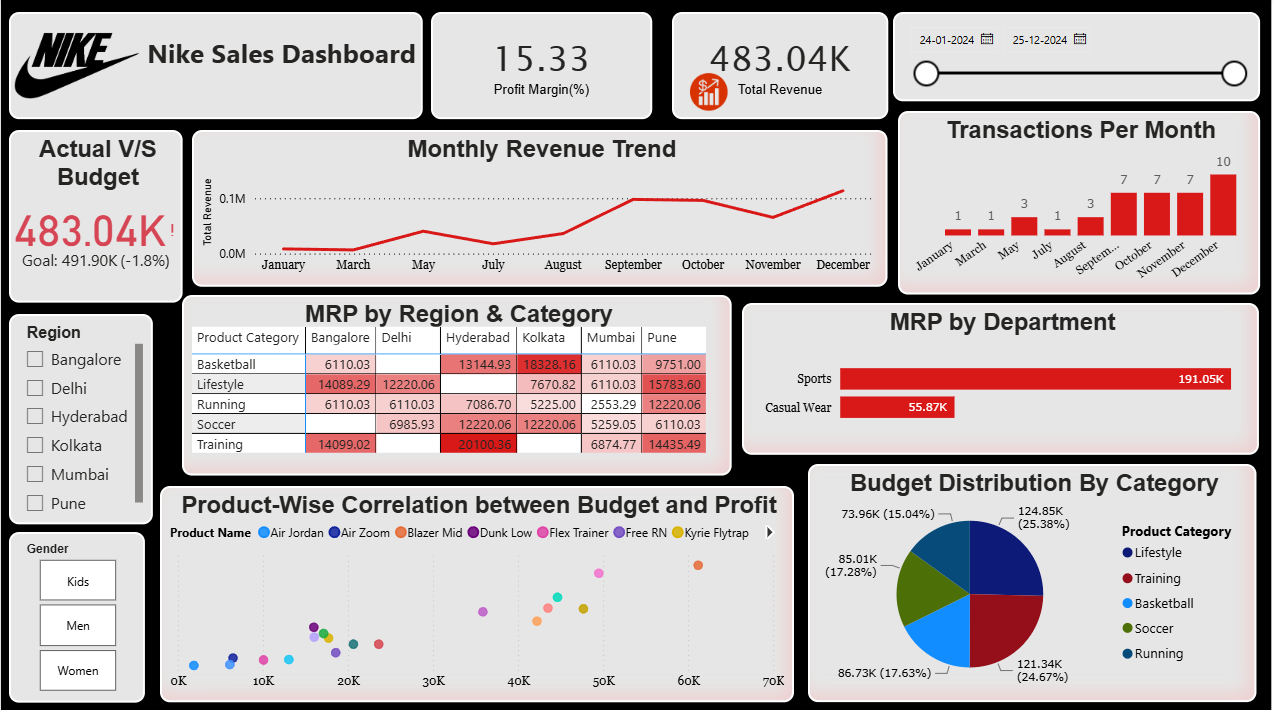

The dashboard page shown, as its layout file describes it:
{"tool":"powerbi","page":{"name":"Overview","canvas":[1280,720],"ordinal":0},"visuals":[{"type":"clusteredBarChart","title":"MRP by Department","fields":{"Y":["Sum(Nike_Sales.MRP)"],"Category":["Nike_Sales.Department_Type"]},"box":[747,307.4,521.3,152.7],"z":0},{"type":"lineChart","title":"Monthly Revenue Trend","fields":{"Y":["Sum(Nike_Sales.Revenue)"],"Category":["Calendar.Date.Variation.Date Hierarchy.Month"]},"box":[192.6,133.3,701.3,157.6],"z":1000},{"type":"pieChart","title":"Budget Distribution By Category","fields":{"Category":["Nike_Sales.Product_Category"],"Y":["Sum(Nike_Sales.Budget)"]},"box":[813.1,469.8,452.3,240.2],"z":2000},{"type":"pivotTable","title":"MRP by Region & Category","fields":{"Rows":["Nike_Sales.Product_Category"],"Columns":["Nike_Sales.Region"],"Values":["Sum(Nike_Sales.MRP)"]},"box":[182.9,299.6,554.4,181.9],"z":3000},{"type":"clusteredColumnChart","title":"Transactions Per Month","fields":{"Y":["CountNonNull(Nike_Sales.Revenue (bins))"],"Category":["Calendar.Date.Variation.Date Hierarchy.Month"]},"box":[904.1,113.9,364.9,185.4],"z":4000},{"type":"scatterChart","title":"Product-Wise Correlation between Budget and Profit","fields":{"X":["Sum(Nike_Sales.Budget)"],"Y":["Sum(Nike_Sales.Profit)"],"Series":["Nike_Sales.Product_Name"]},"box":[160.5,492.2,639,217.9],"z":5000},{"type":"slicer","fields":{"Values":["Nike_Sales.Gender_Category"]},"box":[7.8,537.9,137.1,172.2],"z":6000},{"type":"card","fields":{"Values":["Sum(Nike_Sales.Revenue)"]},"box":[676,13.6,217.9,108],"z":7000},{"type":"textbox","box":[7.8,13.6,417.3,108],"z":8000},{"type":"card","fields":{"Values":["Avg(Nike_Sales.Profit Margin(%))"]},"box":[433.8,13.6,222.7,108],"z":9000},{"type":"slicer","fields":{"Values":["Nike_Sales.Order_Date"]},"box":[899,14.1,369.9,89.7],"z":10000},{"type":"kpi","title":"Actual V/S Budget","fields":{"Goal":["Sum(Nike_Sales.Budget)"],"Indicator":["Sum(Nike_Sales.Revenue)"],"TrendLine":["Calendar.Date.Variation.Date Hierarchy.Year"]},"box":[7.8,133.3,175.1,174.1],"z":11000},{"type":"slicer","fields":{"Values":["Nike_Sales.Region"]},"box":[7.8,318.1,144.9,212],"z":12000},{"type":"image","box":[7.8,13.6,137.1,108],"z":13000},{"type":"image","box":[689.6,68.1,47.7,52.5],"z":14000}]}

Visuals, with their boxes in screenshot pixels (x1, y1, x2, y2), scaled from the page's 1280x720 canvas onto the 1273x710 screenshot:
"MRP by Department" clusteredBarChart: region(743, 303, 1261, 454)
"Monthly Revenue Trend" lineChart: region(192, 131, 889, 287)
"Budget Distribution By Category" pieChart: region(809, 463, 1258, 700)
"MRP by Region & Category" pivotTable: region(182, 295, 733, 475)
"Transactions Per Month" clusteredColumnChart: region(899, 112, 1262, 295)
"Product-Wise Correlation between Budget and Profit" scatterChart: region(160, 485, 795, 700)
slicer - Nike_Sales.Gender_Category: region(8, 530, 144, 700)
card - Sum(Nike_Sales.Revenue): region(672, 13, 889, 120)
textbox: region(8, 13, 423, 120)
card - Avg(Nike_Sales.Profit Margin(%)): region(431, 13, 653, 120)
slicer - Nike_Sales.Order_Date: region(894, 14, 1262, 102)
"Actual V/S Budget" kpi: region(8, 131, 182, 303)
slicer - Nike_Sales.Region: region(8, 314, 152, 523)
image: region(8, 13, 144, 120)
image: region(686, 67, 733, 119)
